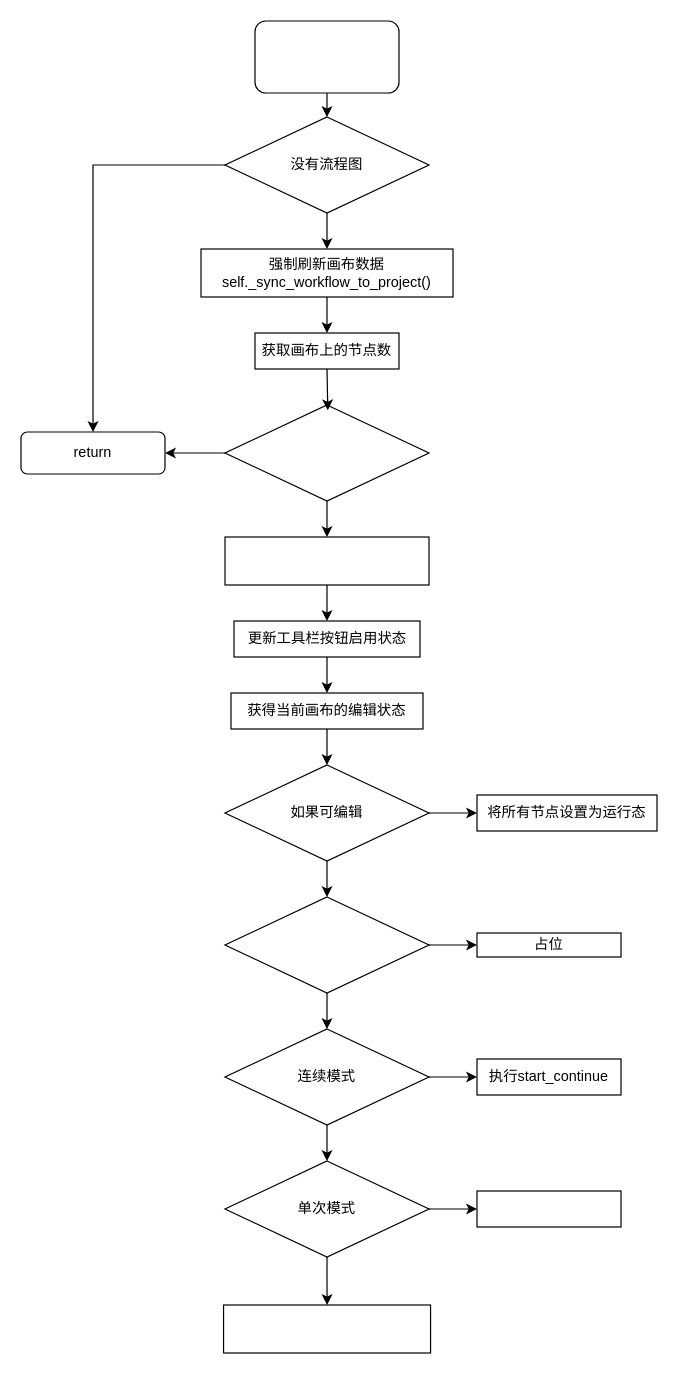
Some shapes in this 678 by 1374 pixel diagram are drawn without their labels. Each missing label, with the centre of its shape:
"200ms后更新状态 self._finalize_execution_state" belongs at (x=326, y=1328).
"开始执行" belongs at (x=326, y=56).
"执行start_once" belongs at (x=548, y=1208).
"是否开启运行全部 (图像源中的按钮)" belongs at (x=326, y=944).
"更新执行模式：单次/连续 重置停止标志" belongs at (x=326, y=560).
"节点数为0" belongs at (x=326, y=452).
